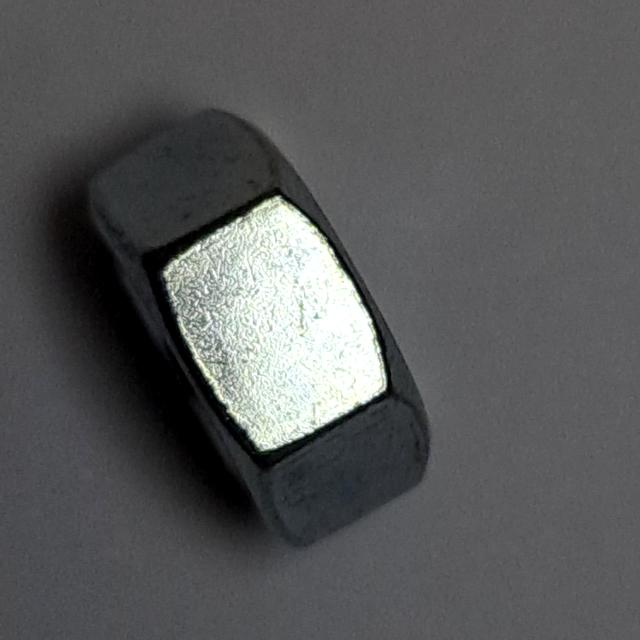Side_Excellent: (68, 96, 441, 564)
